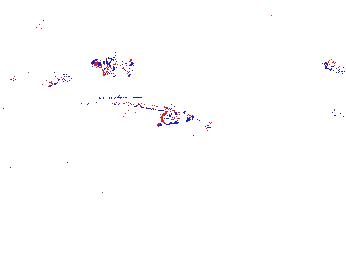X-ray fish: (22, 52, 72, 78), (55, 216, 94, 237), (32, 17, 54, 39)
glassfish: (69, 90, 196, 126), (3, 71, 74, 96)
red belly glassfish: (91, 56, 131, 75), (196, 120, 214, 139)
redtail glassfish: (320, 58, 346, 77), (328, 103, 346, 119)
